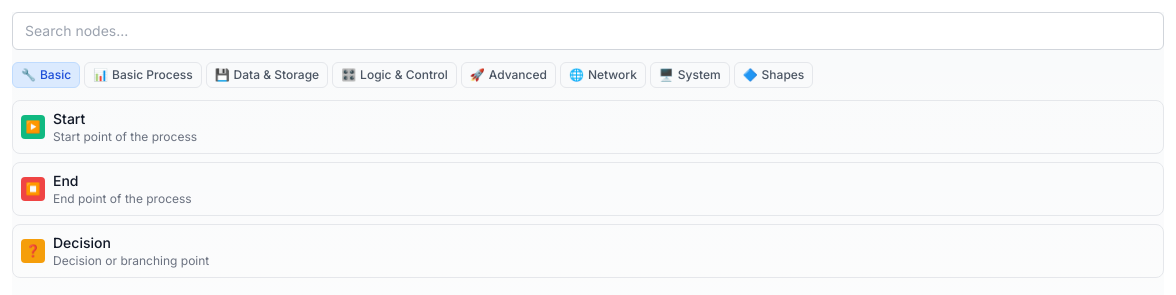
Scenario: Enhanced NodePalette › shows no results message when search yields no matches
Note: Search for something that doesn't exist
Type "nonexistent" into the field with placeholder "Search nodes..." at (588, 31), box [12,12,1164,50]
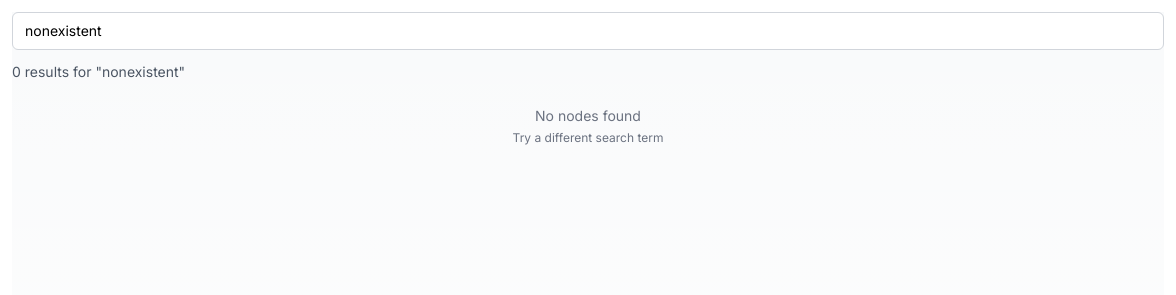
Result: the text "No nodes found" is shown at [535,107,641,124]
Result: the text "Try a different search term" is shown at [513,130,664,145]
